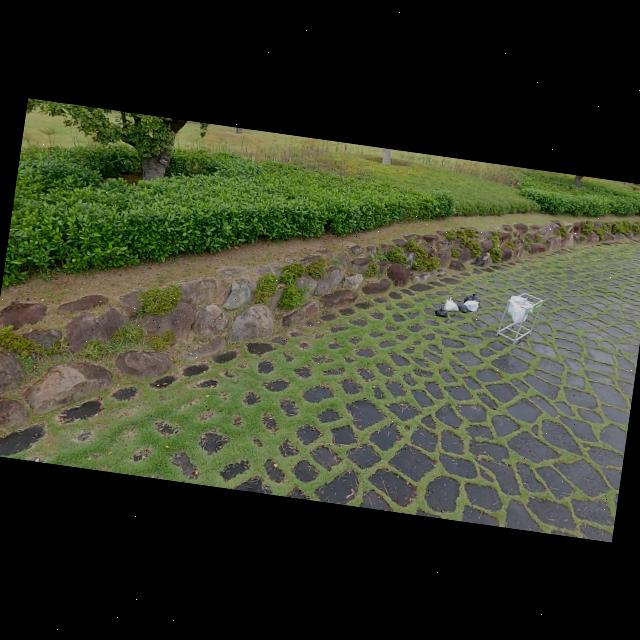trash: (443, 294, 462, 313), (463, 291, 482, 307), (453, 300, 471, 315), (462, 298, 479, 312), (434, 304, 450, 318)
